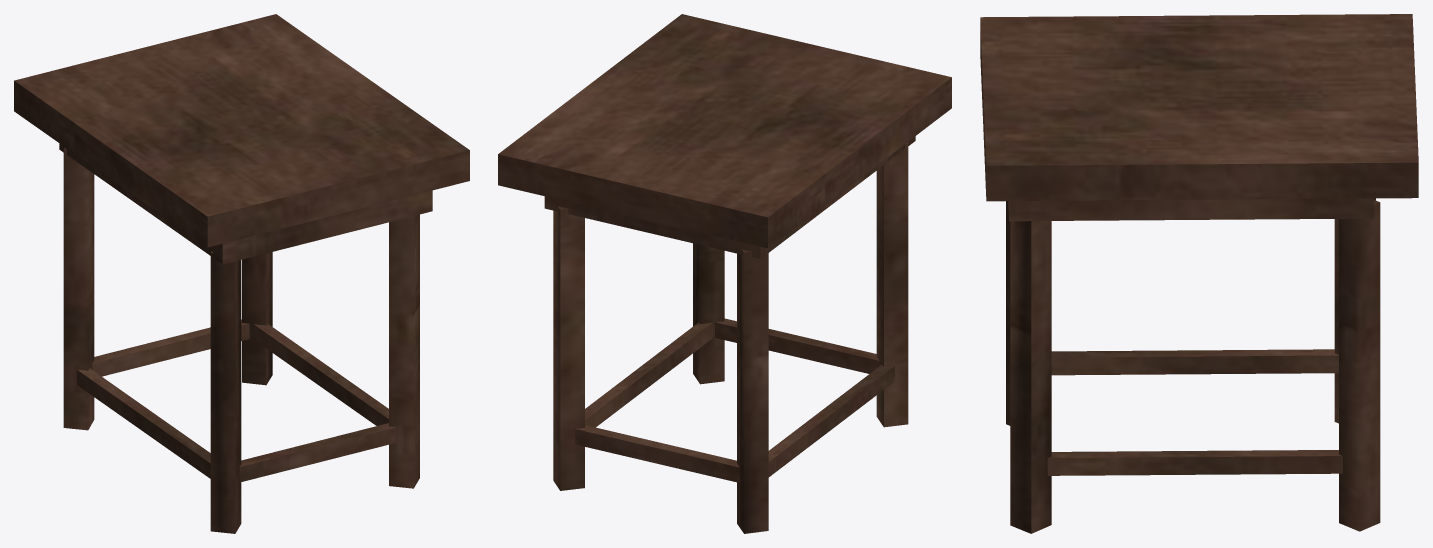
File: objects_table_3.glb
The picture shows the model from 3 angles, left to right: view 1: azimuth 30°, elevation 25°; view 2: azimuth 150°, elevation 25°; view 3: azimuth 270°, elevation 25°; orthographic projection. The views are drawn at different scales.
Visible parts, largest first — view 1: table_3; view 2: table_3; view 3: table_3.
Boxes of the visible parts, box(x1,y1,x2,y2) form: table_3: box(14, 14, 469, 533); table_3: box(498, 14, 951, 533); table_3: box(980, 14, 1418, 533).
Bounding box in the file's own units: 1.26 × 1.49 × 1.53.
Materials: 1 (1 with a texture image).
